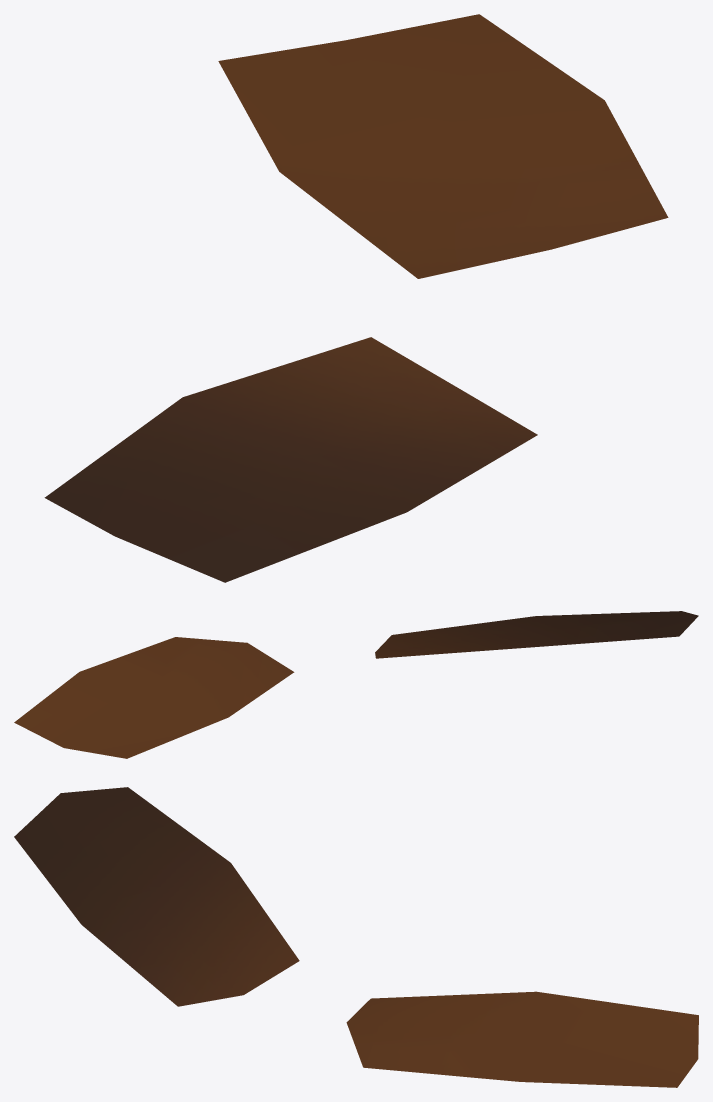
3 views of the same model, one above another, from view 1: azimuth 30°, elevation 25°; view 2: azimuth 150°, elevation 25°; view 3: azimuth 270°, elevation 25° (orthographic). The views are drawn at different scales.
Visible parts, largest first — view 1: example.glb; view 2: example.glb; view 3: example.glb.
Part boxes in pixels (x1=…): example.glb: x1=44, y1=14, x2=668, y2=582; example.glb: x1=14, y1=611, x2=698, y2=758; example.glb: x1=14, y1=787, x2=698, y2=1087.
Size of the model in its own units: 0.2179 by 0.023 by 0.2387.
Materials: 1 (1 with a texture image).
